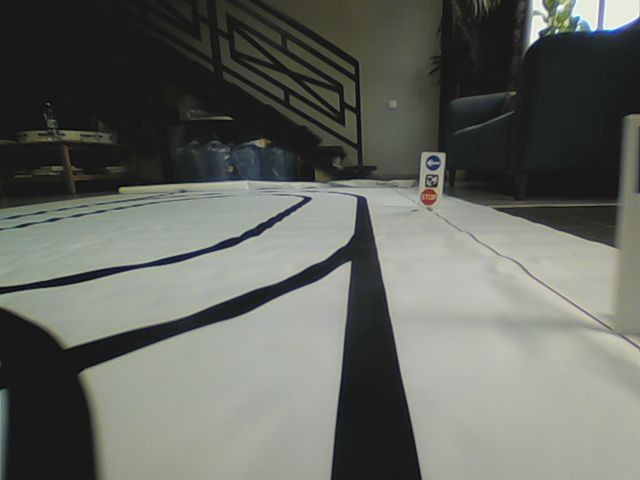Stop: (420, 188, 438, 206)
